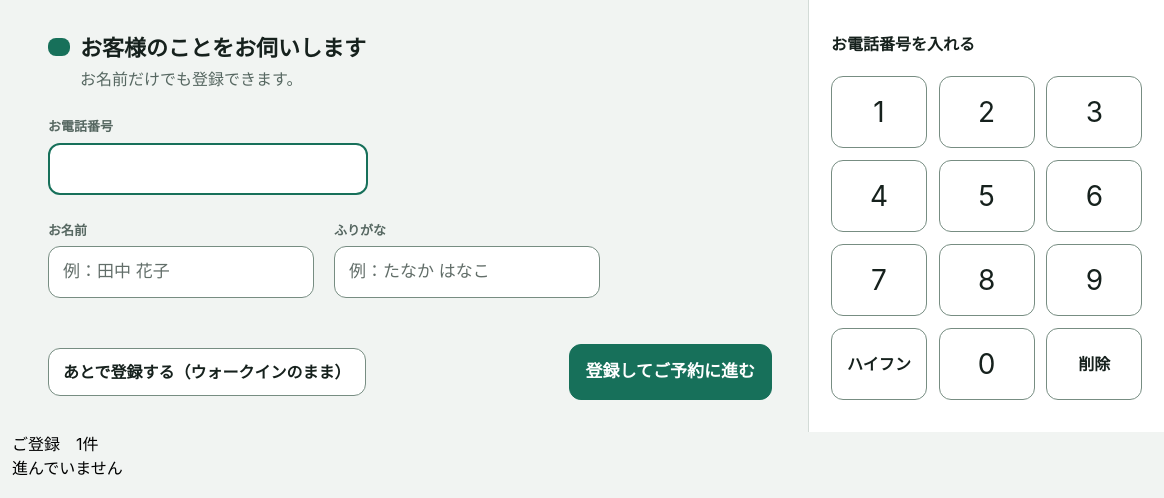
it: ふりがな › お名前の変換が確定した時点で 1 度だけ自動で埋め、「自動で入れました」の 1 行を欄の下に出す
Type "たなか" into the field labelled "お名前".
click(181, 272); type("たなか")  # box [48, 246, 314, 298]
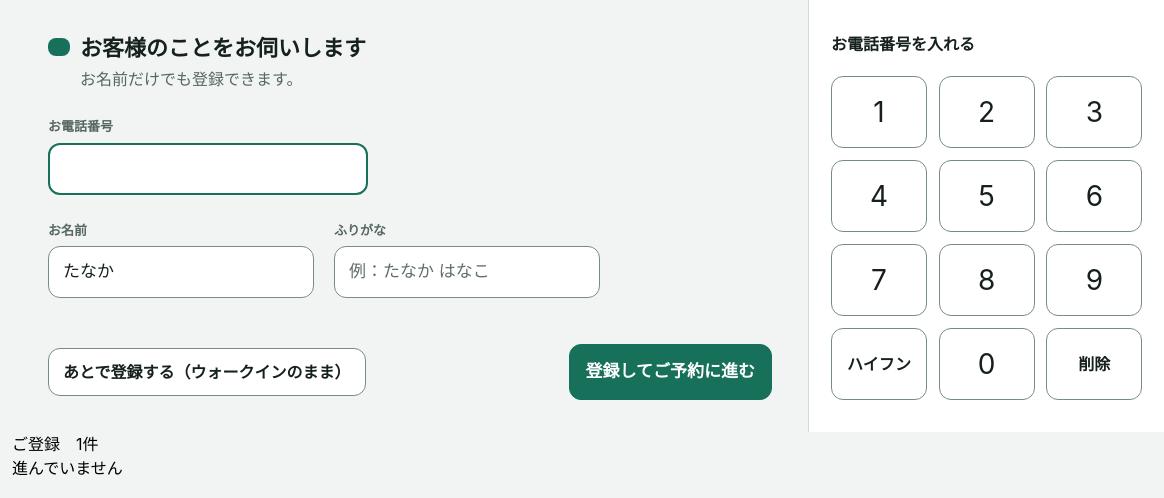
expect the field labelled "ふりがな" is empty: met, box [334, 246, 600, 298]
Replace the text in the field labelled "お名前" with "田中" at (181, 272), box [48, 246, 314, 298]
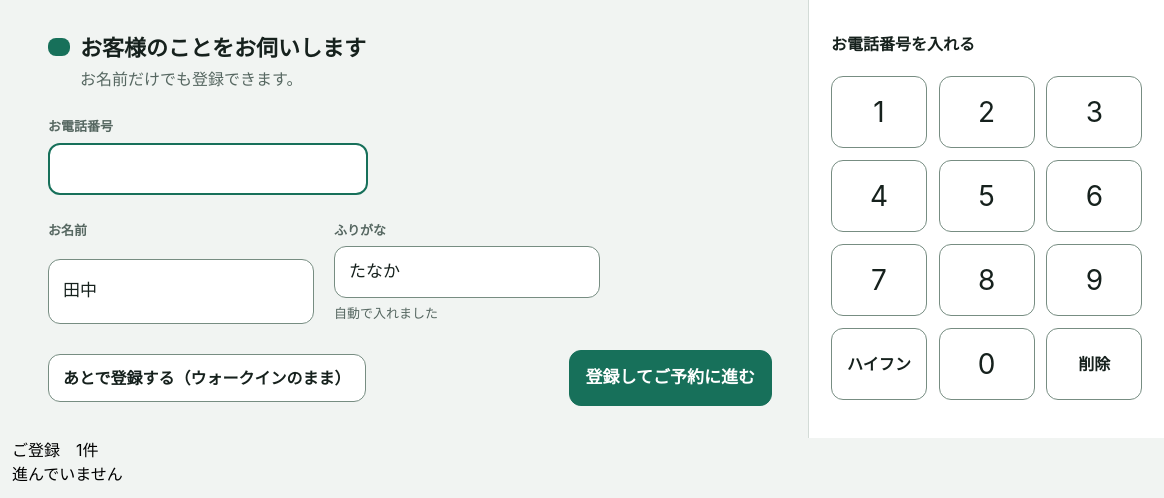
expect the field labelled "ふりがな" holds "たなか": met, box [334, 246, 600, 298]
expect the text "自動で入れました" is shown: met, box [334, 305, 438, 321]
